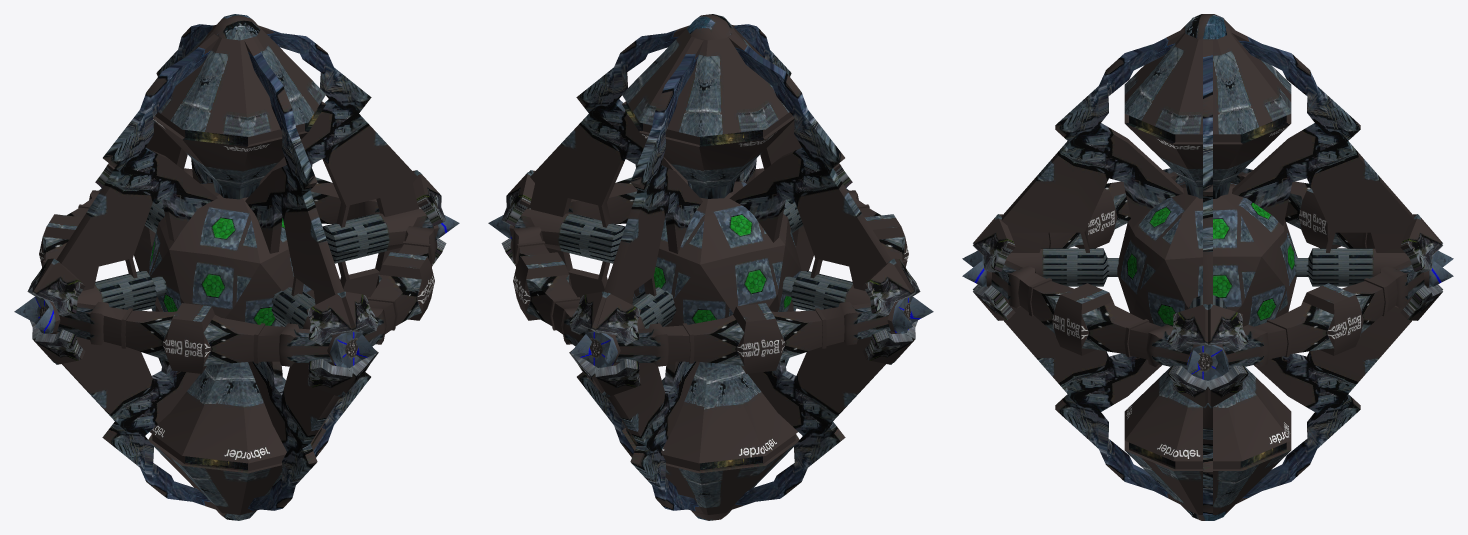
Rendered from Borg_Diamond.fbx.
3 renders of one model, left to right at view 1: azimuth 30°, elevation 25°; view 2: azimuth 150°, elevation 25°; view 3: azimuth 270°, elevation 25°, orthographic.
Parts seen in each view (by area): view 1: Borg_Diamond; view 2: Borg_Diamond; view 3: Borg_Diamond.
Boxes of the visible parts, x1,y1,x2,y2 form: Borg_Diamond: (14, 14, 459, 520); Borg_Diamond: (488, 14, 933, 520); Borg_Diamond: (962, 14, 1453, 520).
Size of the model in its own units: 769 by 868 by 769.
1 material, 1 textured.
